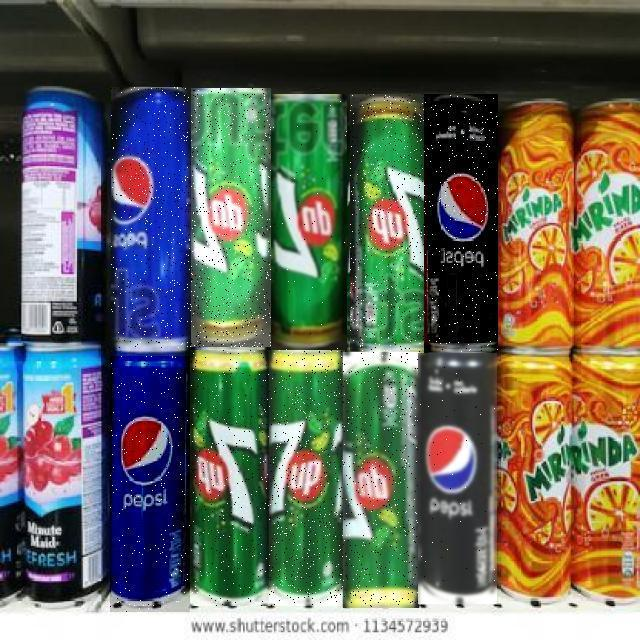Drinks: (111, 88, 191, 350), (191, 88, 271, 347), (190, 351, 270, 607), (110, 356, 190, 612), (418, 353, 497, 604), (271, 95, 347, 351), (269, 351, 345, 607), (343, 352, 419, 608), (350, 94, 424, 354), (424, 94, 498, 352)
